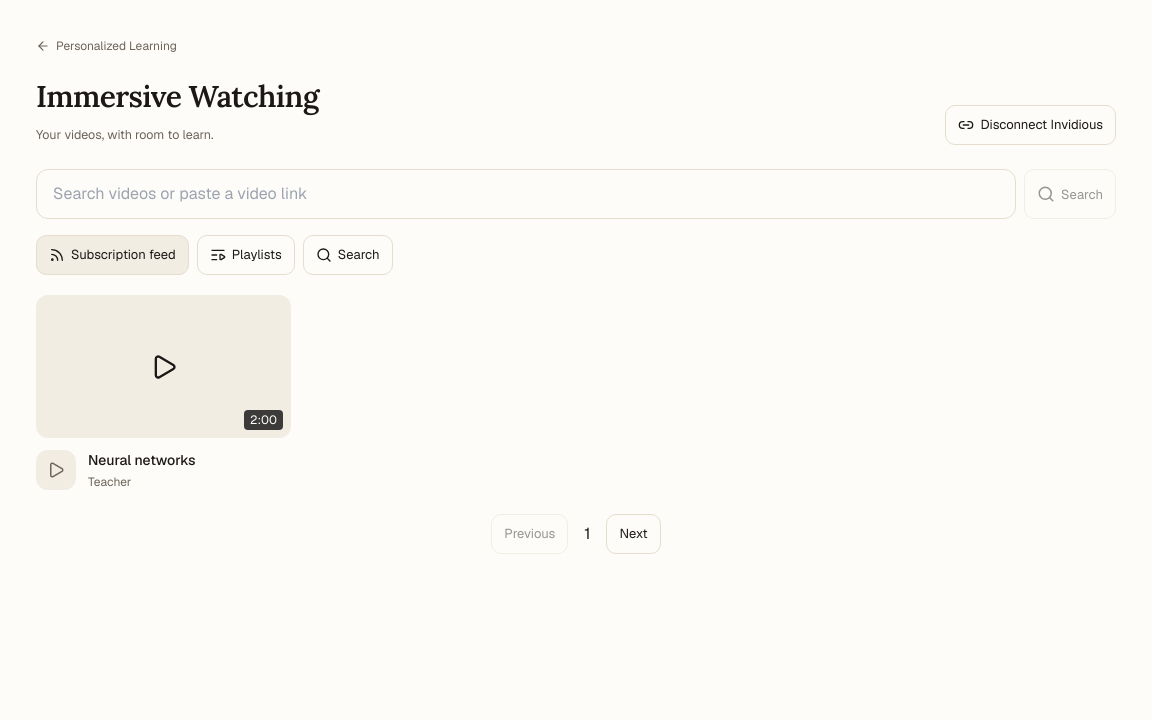
Scenario: Watching account browser › clears private rows when disconnected
Expected: the heading "Neural networks" is shown, top-left (88, 451), bottom-right (196, 469)
Click the button "Disconnect Invidious" at (1031,125), box top-left (945, 105), bottom-right (1116, 145)
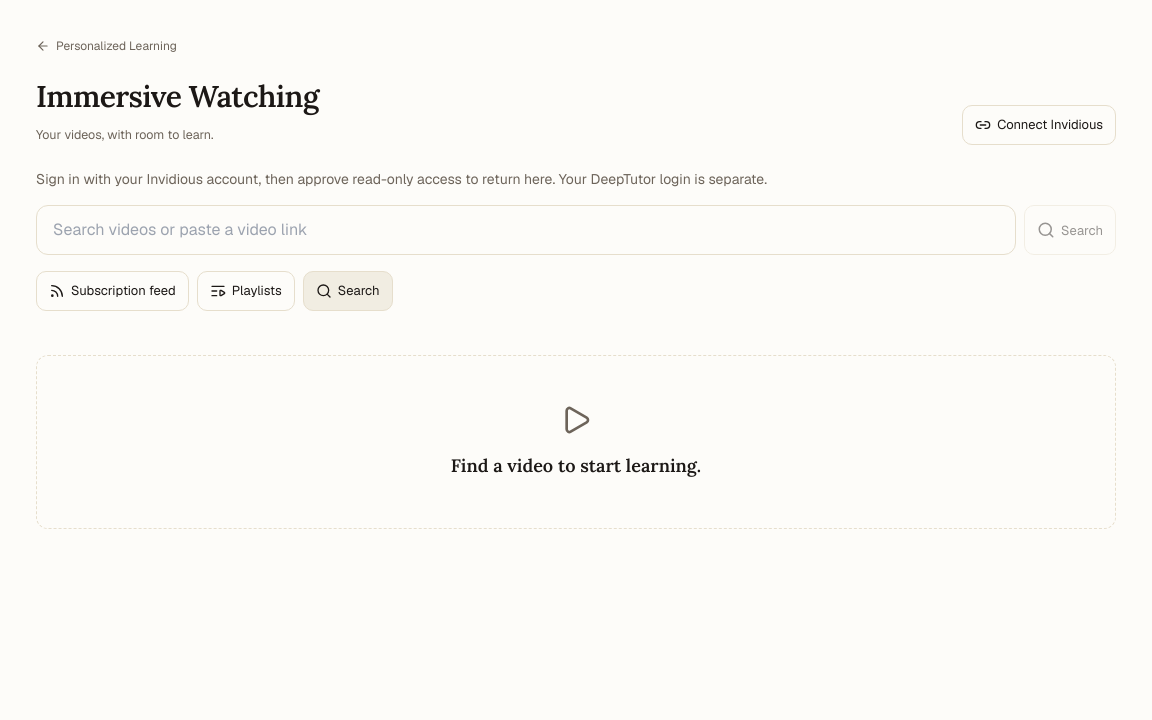
Result: the button "Neural networks" is gone
